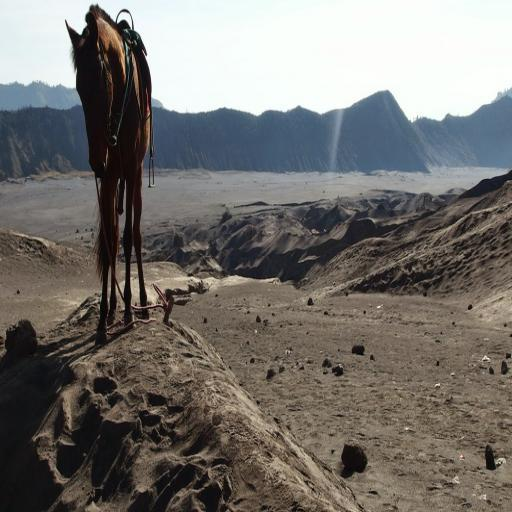horse: (64, 5, 150, 354)
